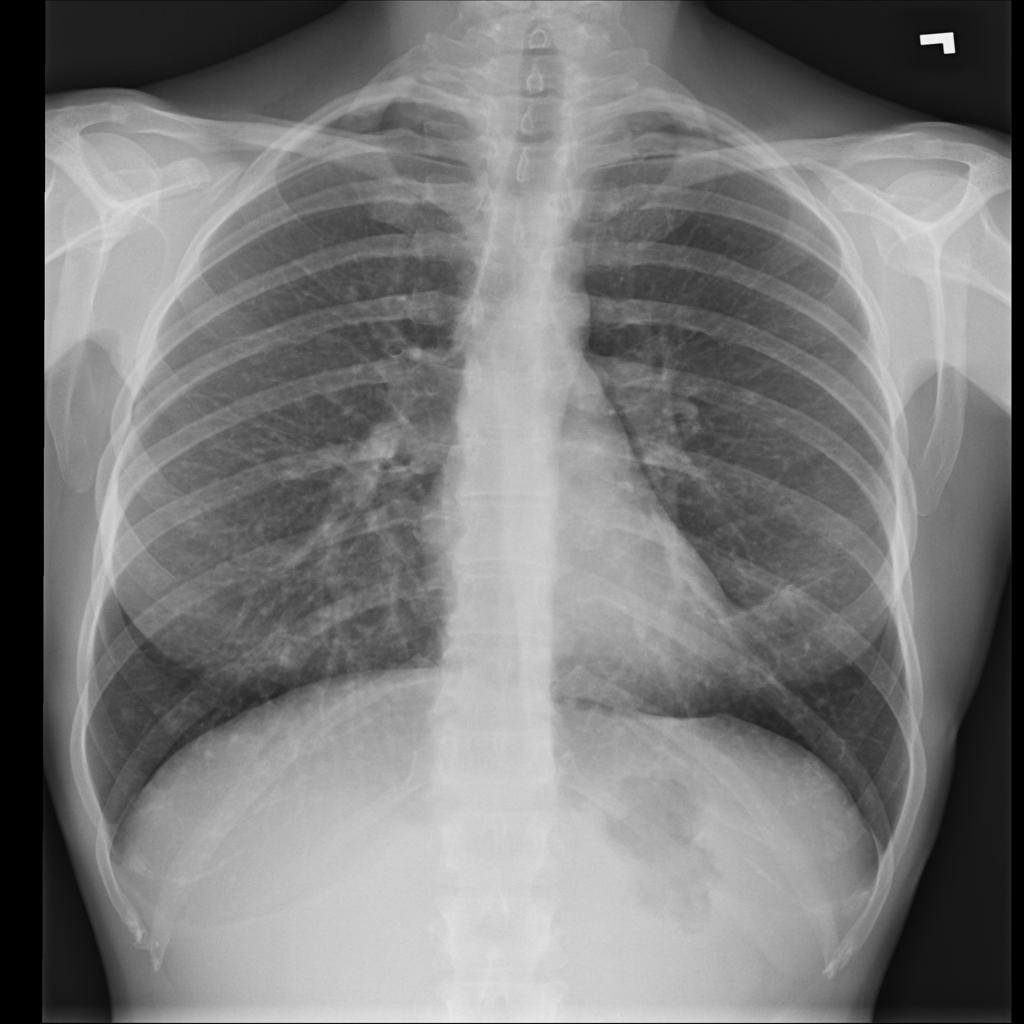nodule: (104, 688, 159, 736)
